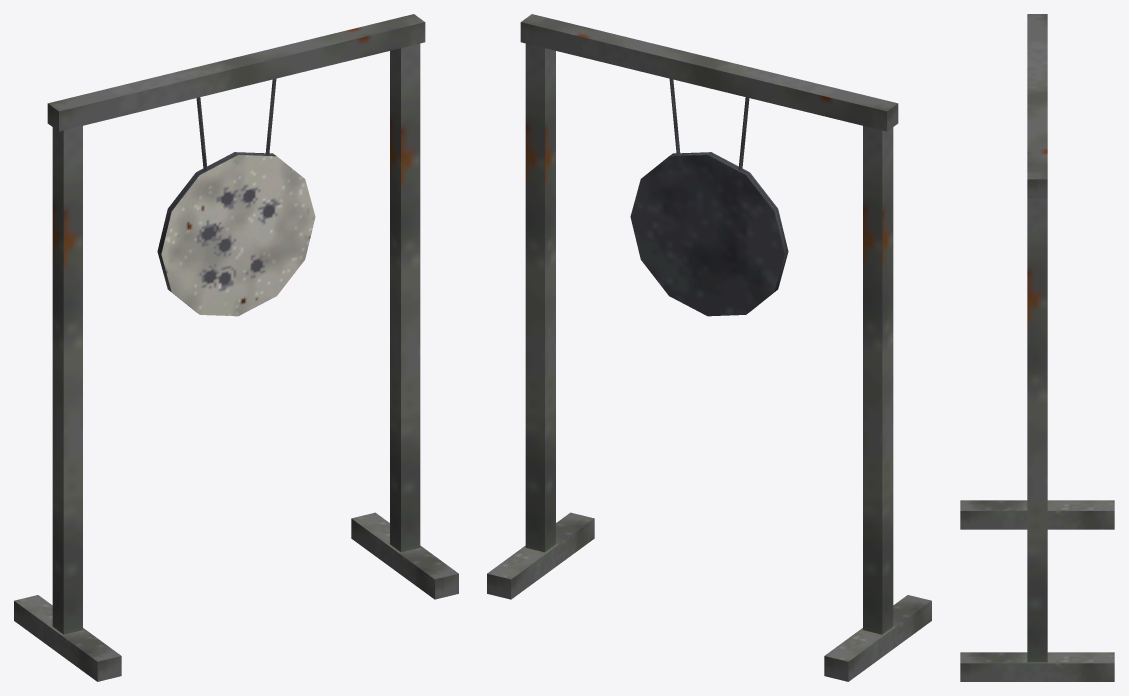
The model's file is target_steel.obj.
The picture shows the model from 3 angles, left to right: view 1: azimuth 30°, elevation 25°; view 2: azimuth 150°, elevation 25°; view 3: azimuth 270°, elevation 25°; orthographic projection. The views are drawn at different scales.
Visible parts, largest first — view 1: target_steel, target_steel_plate; view 2: target_steel, target_steel_plate; view 3: target_steel.
Boxes of the visible parts, <box> form: target_steel: <box>14,14,458,681</box>; target_steel_plate: <box>157,79,315,316</box>; target_steel: <box>487,14,931,681</box>; target_steel_plate: <box>630,79,788,316</box>; target_steel: <box>960,14,1114,681</box>.
Bounding box in the file's own units: 0.76 × 1.08 × 0.3.
1 material, 1 textured.
